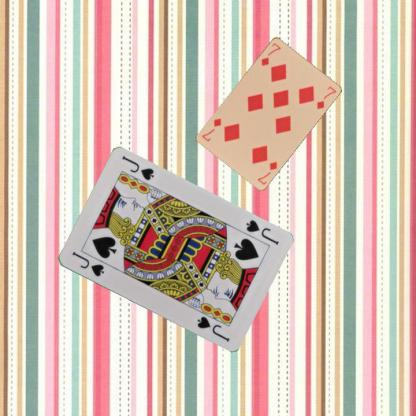7d: (255, 158, 278, 186), (259, 40, 282, 67)
Js: (243, 217, 280, 247), (69, 248, 105, 278)
